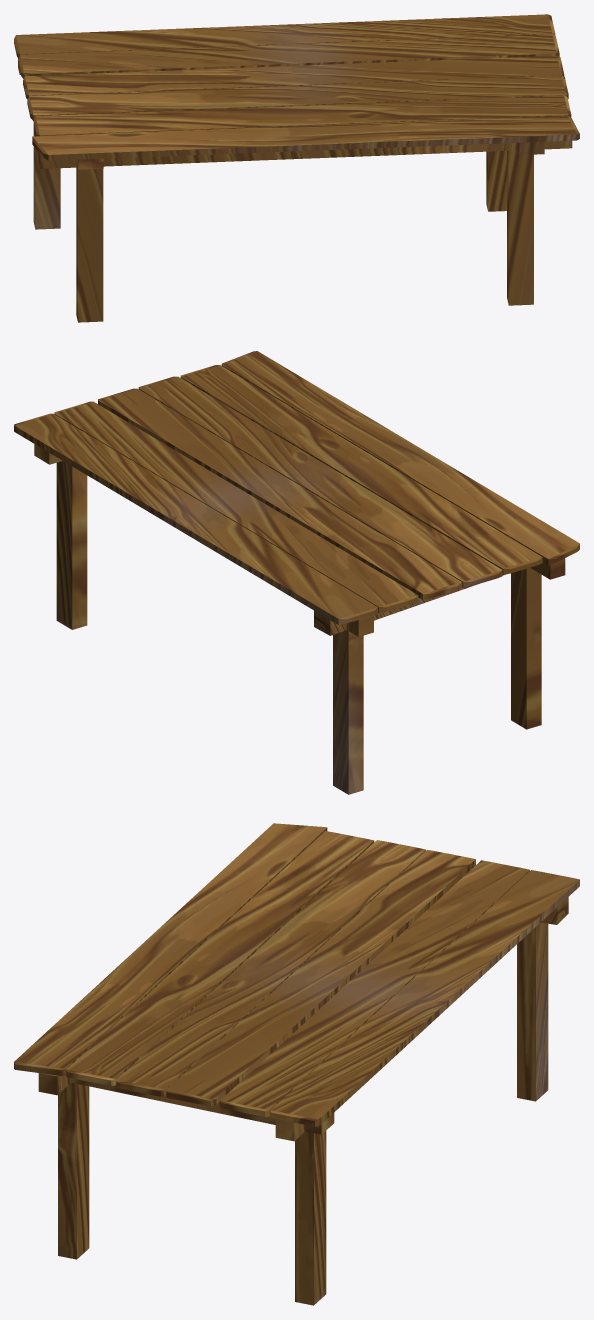
Rendered from table.fbx.
3 views of the same model, one above another, from view 1: azimuth 30°, elevation 25°; view 2: azimuth 150°, elevation 25°; view 3: azimuth 270°, elevation 25° (orthographic). The views are drawn at different scales.
Parts seen in each view (by area): view 1: pCube32; view 2: pCube32; view 3: pCube32.
Boxes of the visible parts, x1=… form: pCube32: x1=14, y1=14, x2=579, y2=322; pCube32: x1=14, y1=351, x2=579, y2=794; pCube32: x1=14, y1=823, x2=579, y2=1305.
Size of the model in its own units: 26.01 by 8.49 by 20.91.
Materials: 1 (1 with a texture image).
